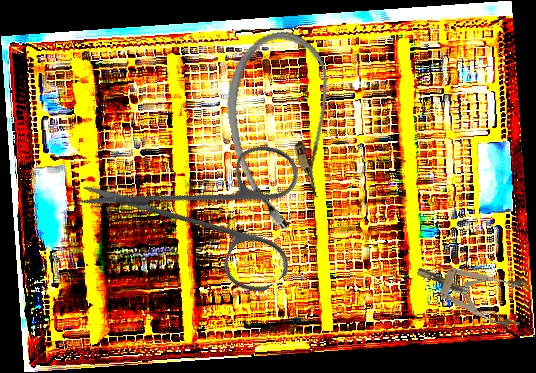Cannula: (212, 24, 357, 236)
Iris Scissors: (73, 76, 347, 349)
Speculum: (409, 246, 536, 332)
